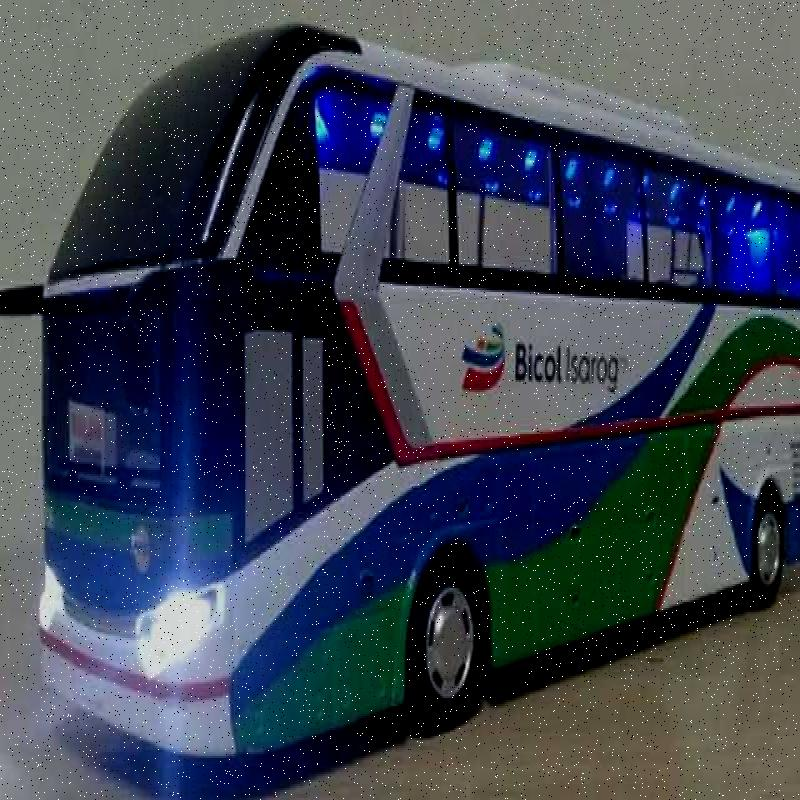bus: (9, 14, 800, 766)
